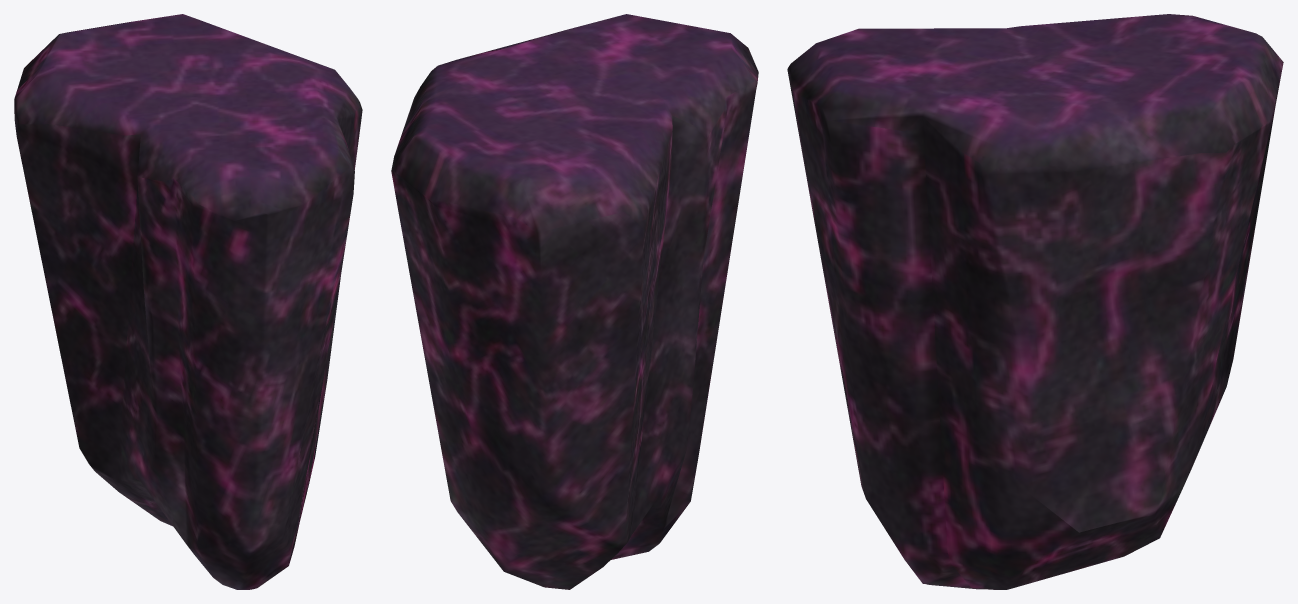
File: sky_decor_cliff_c_chaos_v35.glb
The picture shows the model from 3 angles, left to right: view 1: azimuth 30°, elevation 25°; view 2: azimuth 150°, elevation 25°; view 3: azimuth 270°, elevation 25°; orthographic projection. The views are drawn at different scales.
Visible parts, largest first — view 1: caos_stl_cliffrock_01c; view 2: caos_stl_cliffrock_01c; view 3: caos_stl_cliffrock_01c.
Boxes of the visible parts, left/top/right/bottom form: caos_stl_cliffrock_01c: left=14, top=14, right=362, bottom=589; caos_stl_cliffrock_01c: left=391, top=14, right=758, bottom=589; caos_stl_cliffrock_01c: left=787, top=14, right=1283, bottom=589.
Bounding box in the file's own units: 6.62 × 11.14 × 9.48.
1 material, 1 textured.
